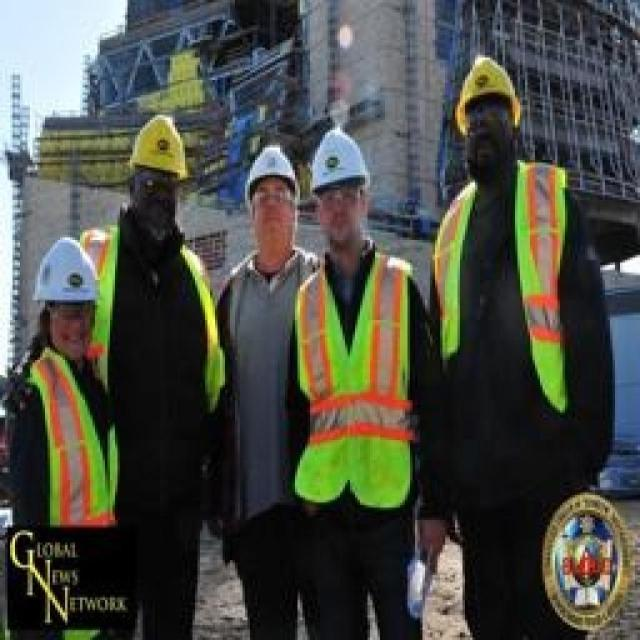Helmet: (213, 248, 315, 560), (15, 226, 117, 332), (437, 47, 545, 137), (300, 115, 390, 218), (104, 108, 210, 192), (230, 129, 298, 232)
Safety Vest: (416, 170, 624, 500), (290, 253, 425, 552), (70, 223, 228, 465), (8, 342, 140, 548)
